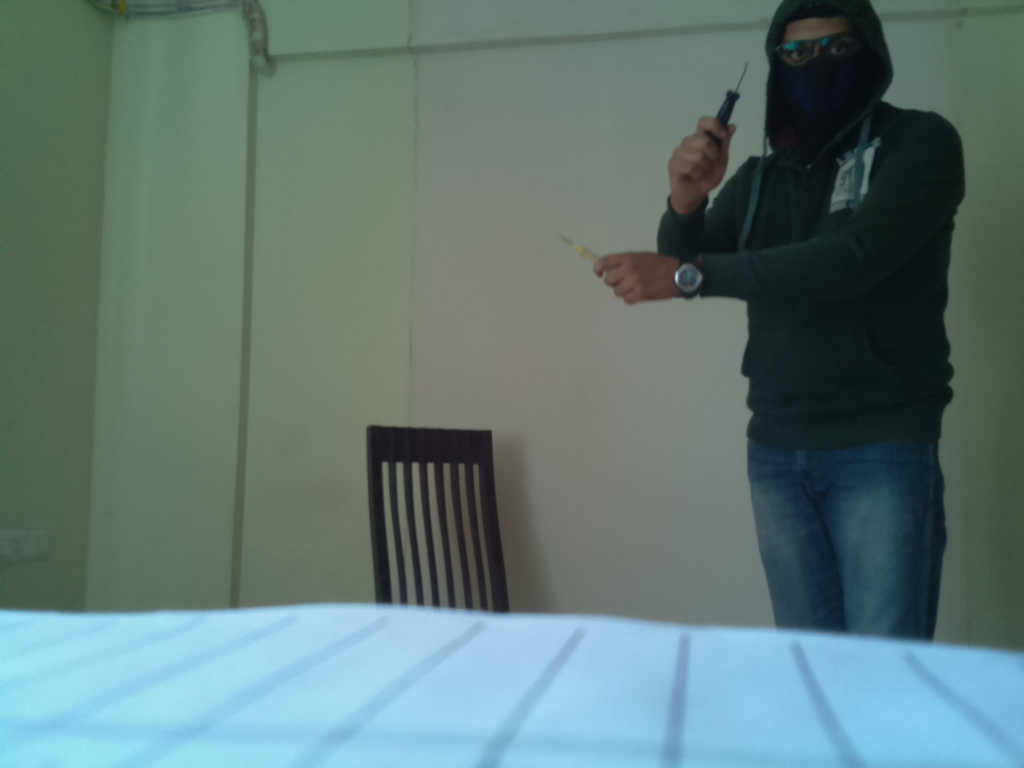none2: (669, 254, 701, 306)
none3: (712, 52, 754, 137), (551, 233, 611, 269)
